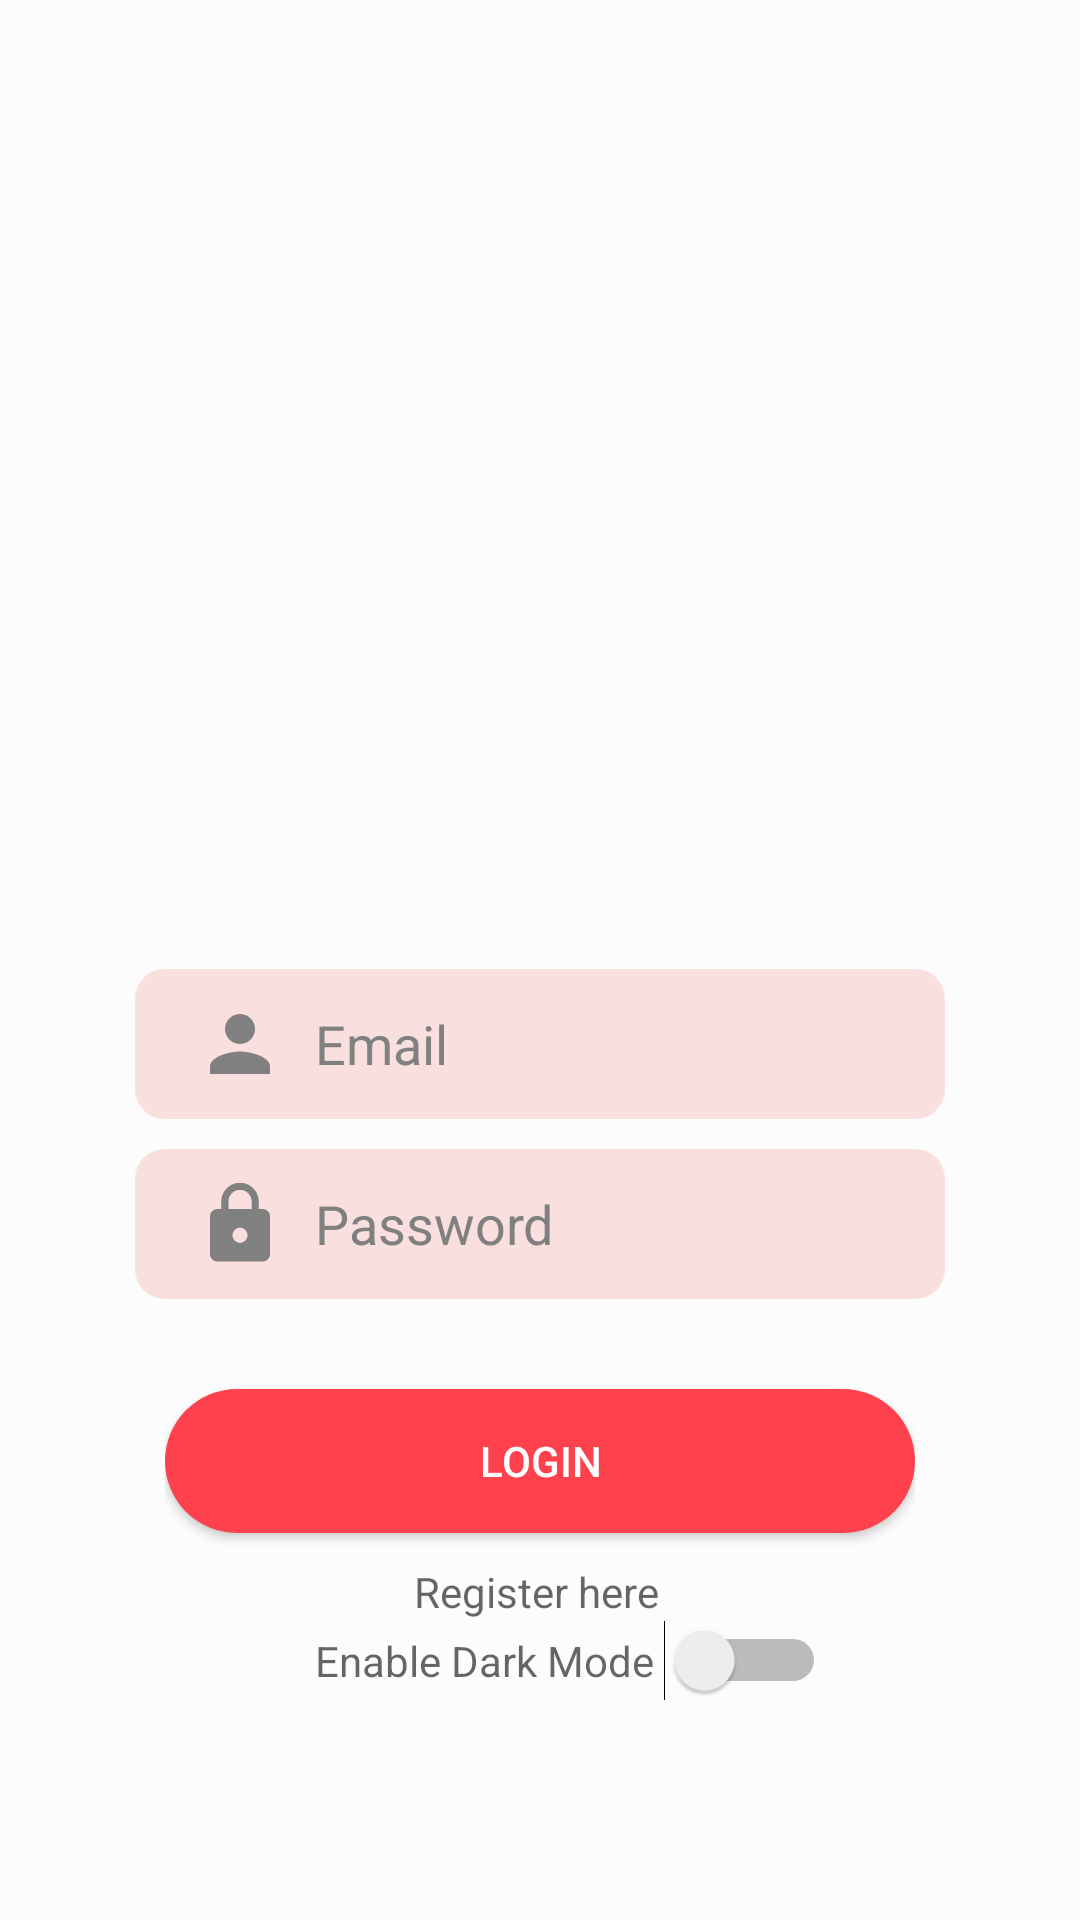

Named icons in this screenshot (1080px x 1920px) and their centers, (x=x, y=y):
lock: (x=240, y=1222)
person: (x=240, y=1044)
